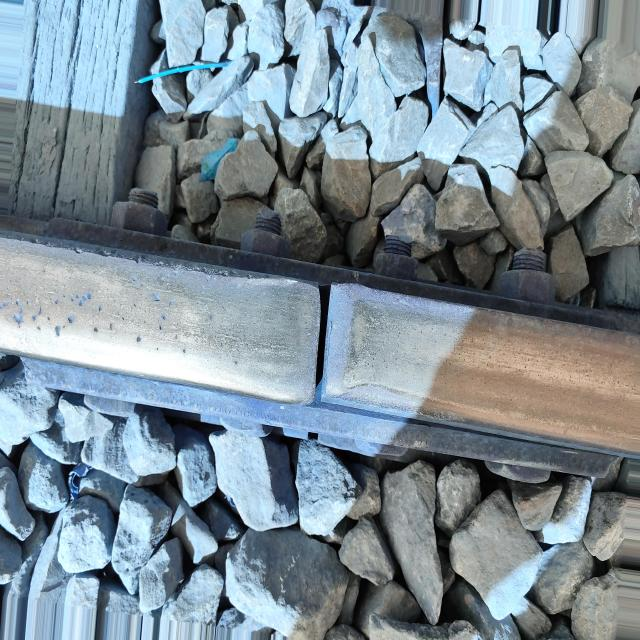crack: (297, 272, 352, 400)
